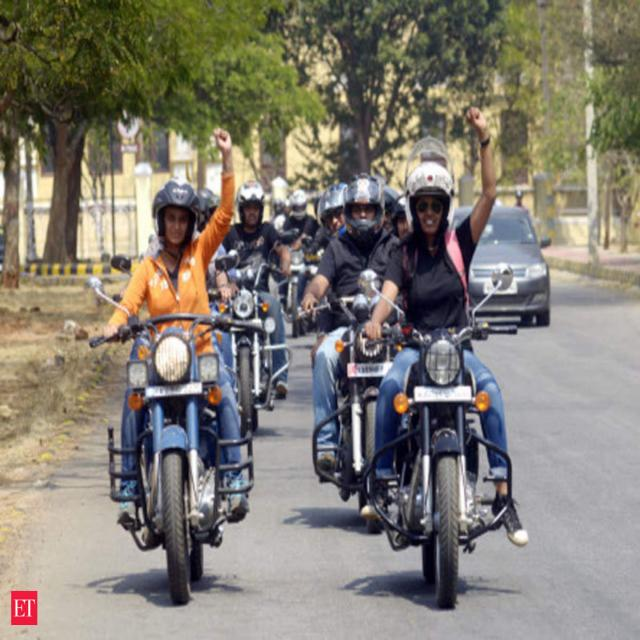bike: (348, 264, 544, 610), (83, 265, 266, 607)
